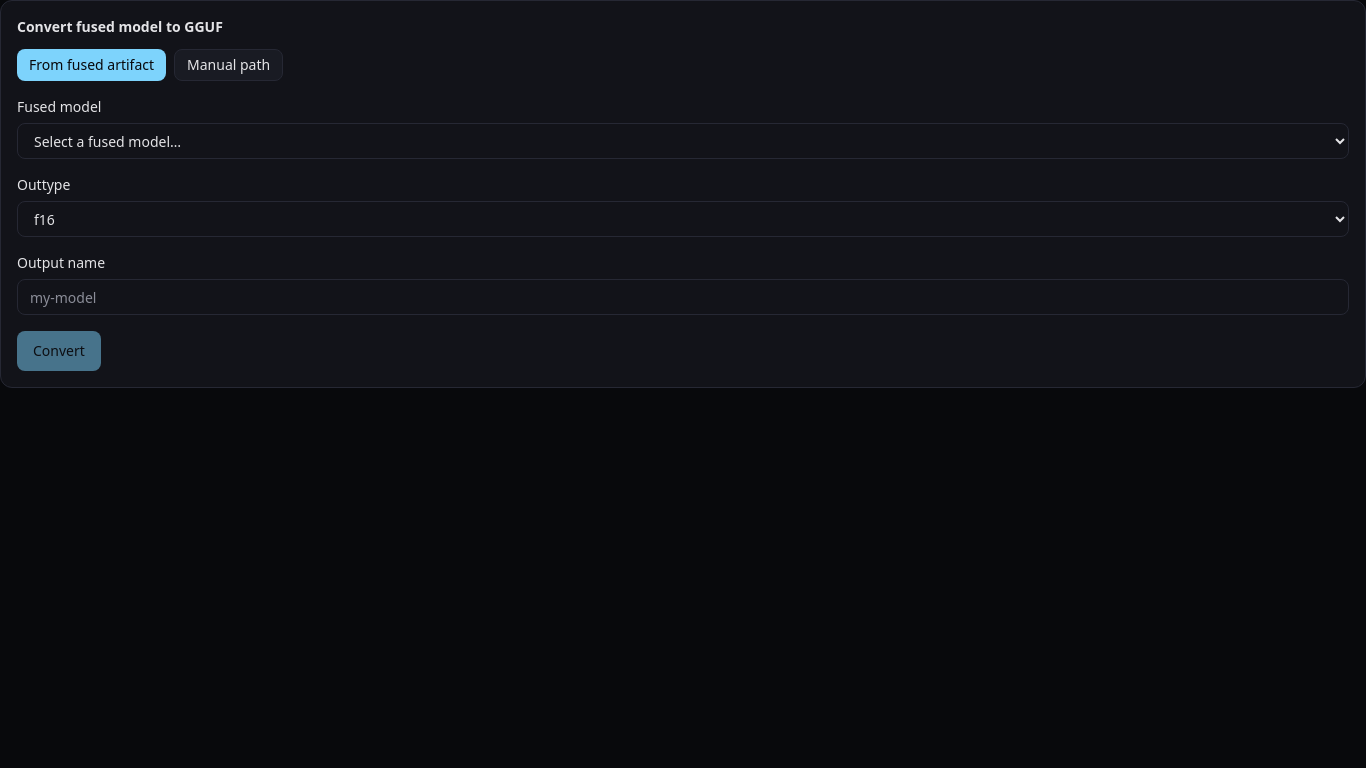
Test: GGUFWizard › enables submit and shows all-green checks when the preflight passes
This screenshot has width=1366, height=768.
Select "/abs/exports/my-model-fused" in the 1st dropdown. click: x=683, y=141
box: [17, 123, 1349, 159]
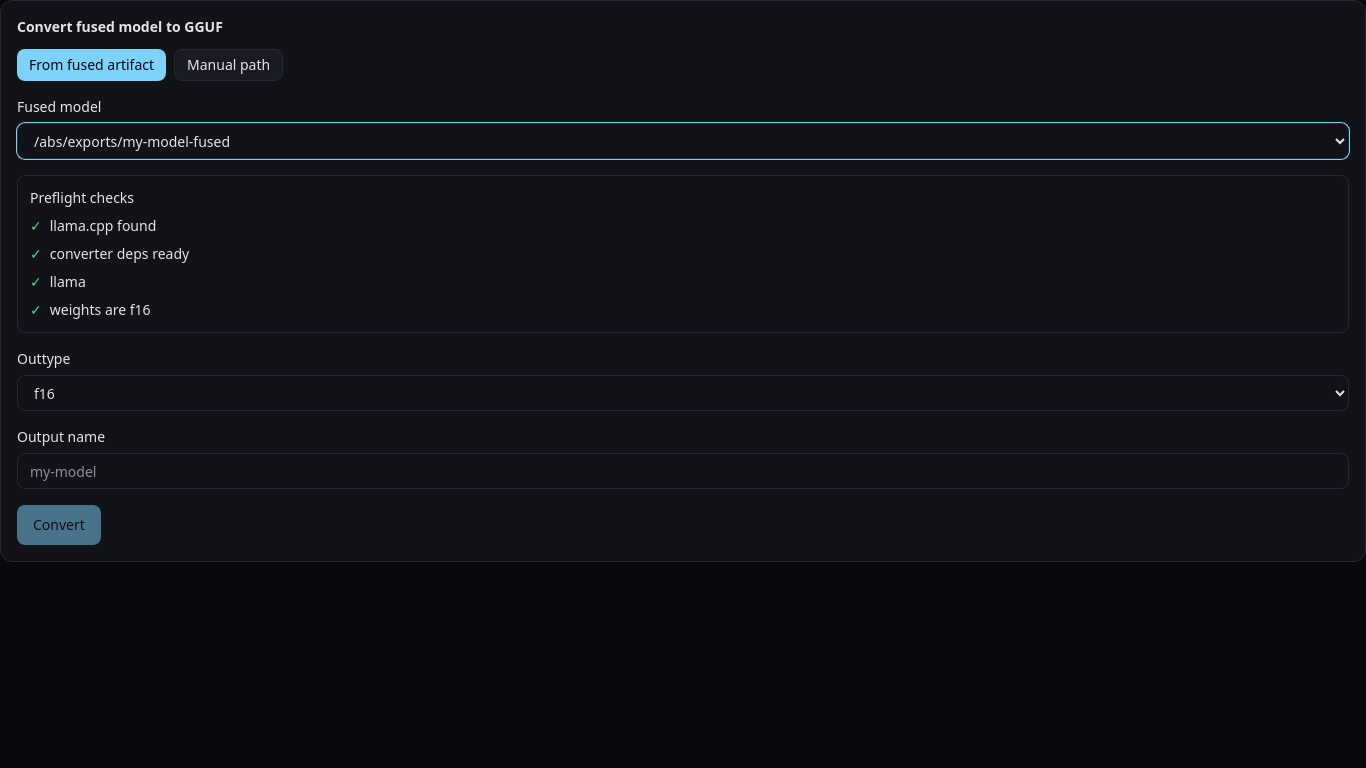
Check: the text "llama.cpp found" is shown, box [50, 216, 156, 236]
Check: the text "weights are f16" is shown, box [50, 300, 151, 320]
Type "my-gguf" into the field with placeholder "my-model". click: x=683, y=471
box: [17, 453, 1349, 489]
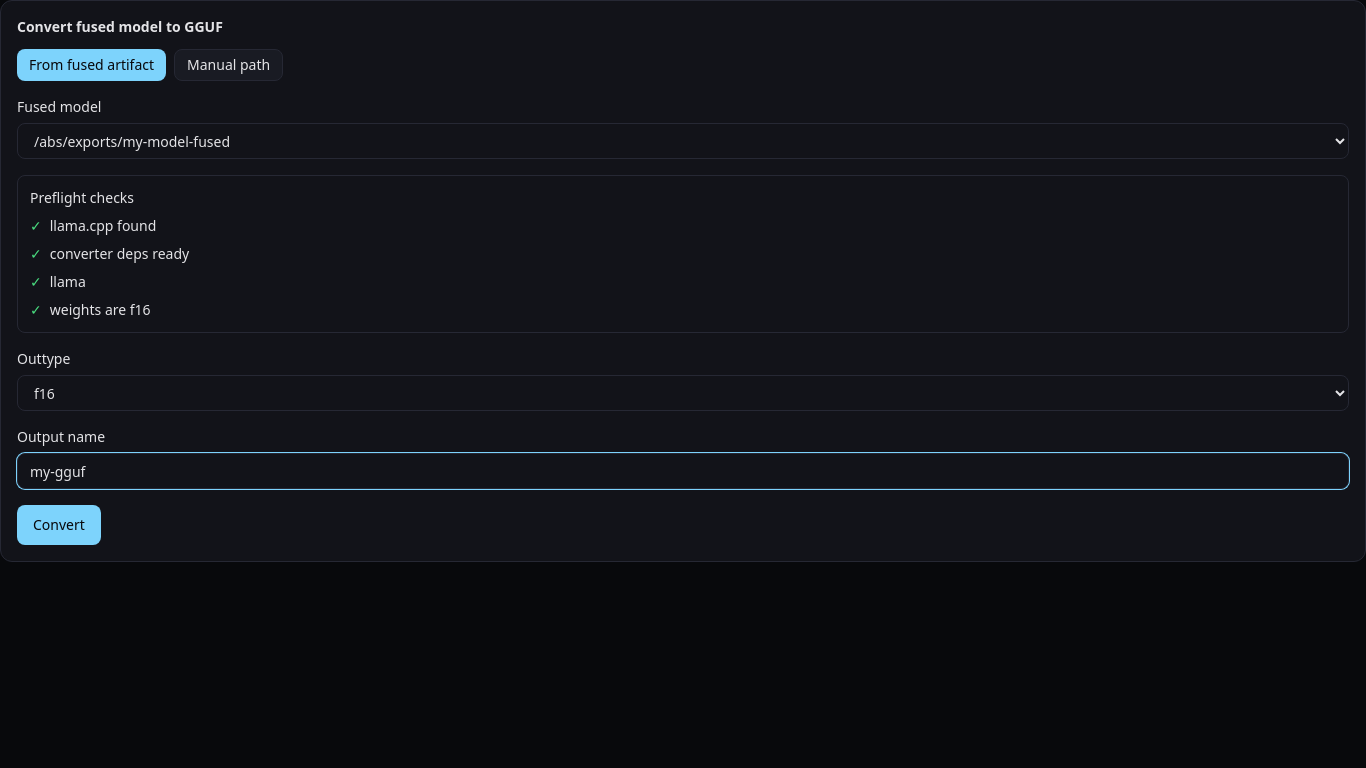
Check: the button "Convert" is enabled, box [17, 505, 101, 545]
